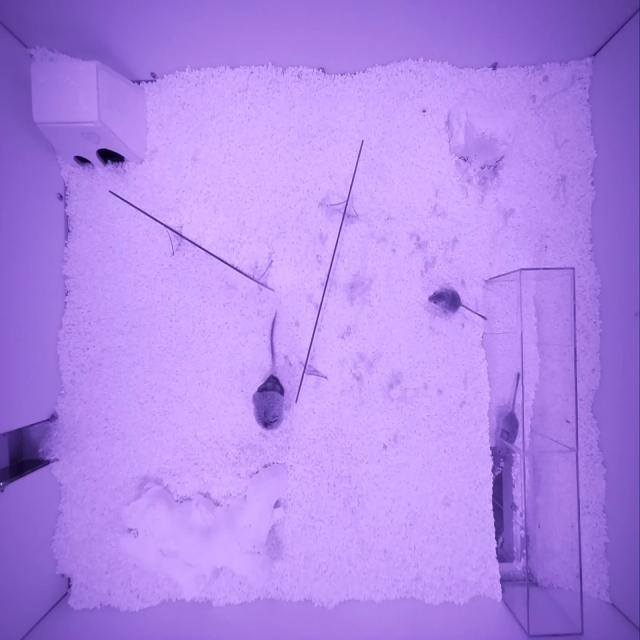adult_back: (252, 371, 288, 429)
pup_fluffy: (427, 288, 462, 315)
pup_spotted: (496, 411, 519, 458)
